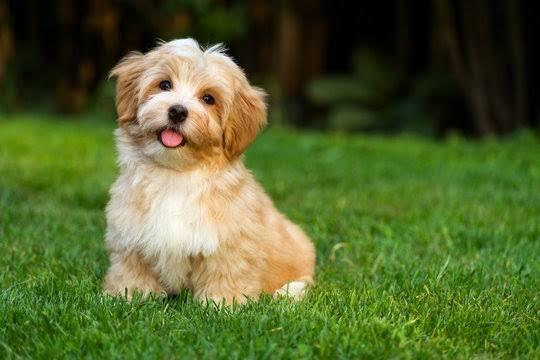puppy-dog: (102, 35, 319, 312)
